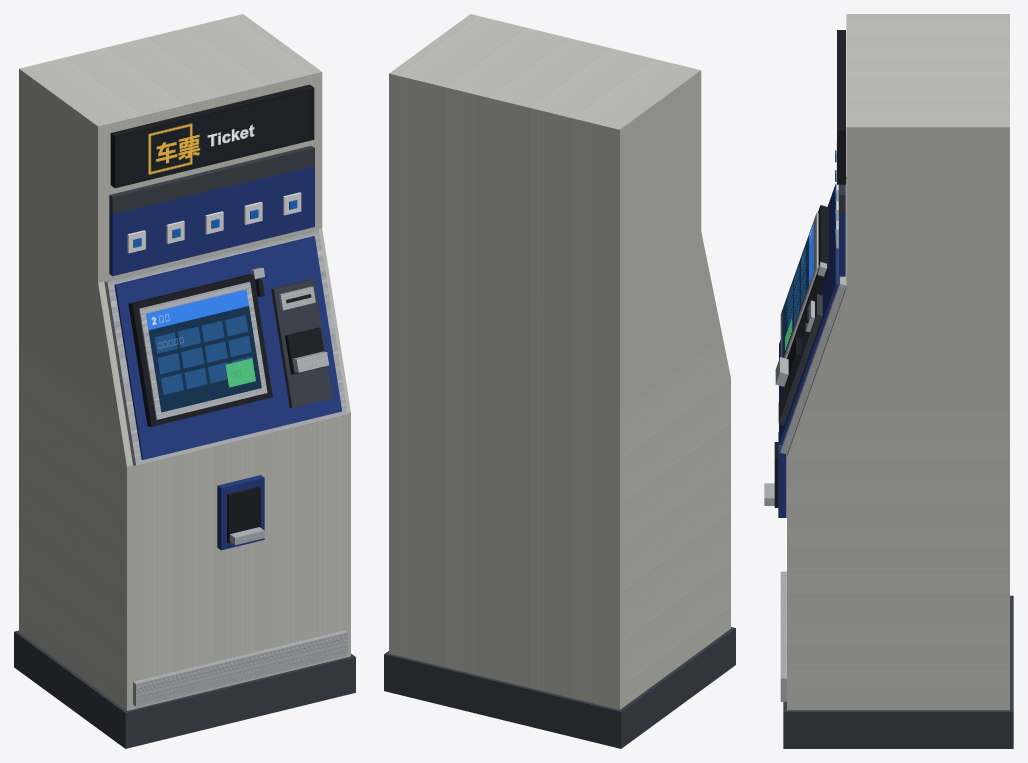
File: tvm.glb
The picture shows the model from 3 angles, left to right: view 1: azimuth 30°, elevation 25°; view 2: azimuth 150°, elevation 25°; view 3: azimuth 270°, elevation 25°; orthographic projection. The views are drawn at different scales.
Visible parts, largest first — view 1: binSteel, tvm-console, darkSteel, tvm-instructions, screen, tvmMarquee, steel, steel2, darkSteel3, black, darkSteel2, steel3 (+4 smaller); view 2: binSteel, darkSteel; view 3: binSteel, darkSteel, tvm-console, steel2, screen, black5, darkSteel2, black, steel, steel3, tvmNavy, black3 (+1 smaller).
Part boxes in pixels (x1=…): binSteel: x1=19, y1=14, x2=350, y2=710; tvm-console: x1=114, y1=236, x2=341, y2=459; darkSteel: x1=14, y1=630, x2=355, y2=748; tvm-instructions: x1=109, y1=165, x2=314, y2=276; screen: x1=146, y1=289, x2=261, y2=412; tvmMarquee: x1=120, y1=91, x2=309, y2=184; steel: x1=133, y1=630, x2=347, y2=706; steel2: x1=104, y1=229, x2=347, y2=465; darkSteel3: x1=109, y1=145, x2=314, y2=214; black: x1=128, y1=274, x2=272, y2=426; darkSteel2: x1=271, y1=279, x2=332, y2=408; steel3: x1=139, y1=281, x2=267, y2=419; binSteel: x1=389, y1=14, x2=730, y2=709; darkSteel: x1=384, y1=627, x2=735, y2=748; binSteel: x1=787, y1=14, x2=1009, y2=710; darkSteel: x1=783, y1=595, x2=1013, y2=748; tvm-console: x1=779, y1=183, x2=838, y2=445; steel2: x1=780, y1=179, x2=846, y2=454; screen: x1=782, y1=221, x2=813, y2=357; black5: x1=837, y1=30, x2=845, y2=184; darkSteel2: x1=778, y1=294, x2=822, y2=424; black: x1=787, y1=205, x2=828, y2=358; steel: x1=780, y1=571, x2=786, y2=701; steel3: x1=780, y1=212, x2=818, y2=358; tvmNavy: x1=778, y1=432, x2=786, y2=517; black3: x1=783, y1=337, x2=801, y2=390.
Bounding box in the file's own units: 0.74 × 1.84 × 0.671.
Materials: 9 (4 with a texture image).
